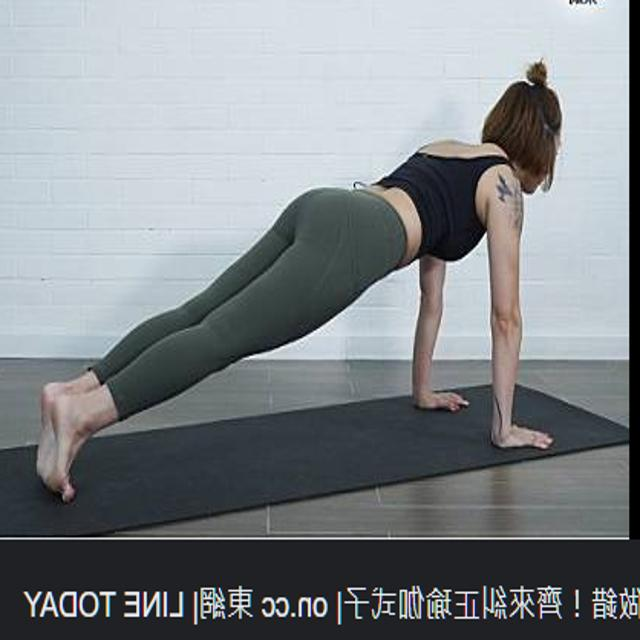Plank_Pose: (32, 53, 568, 501)
